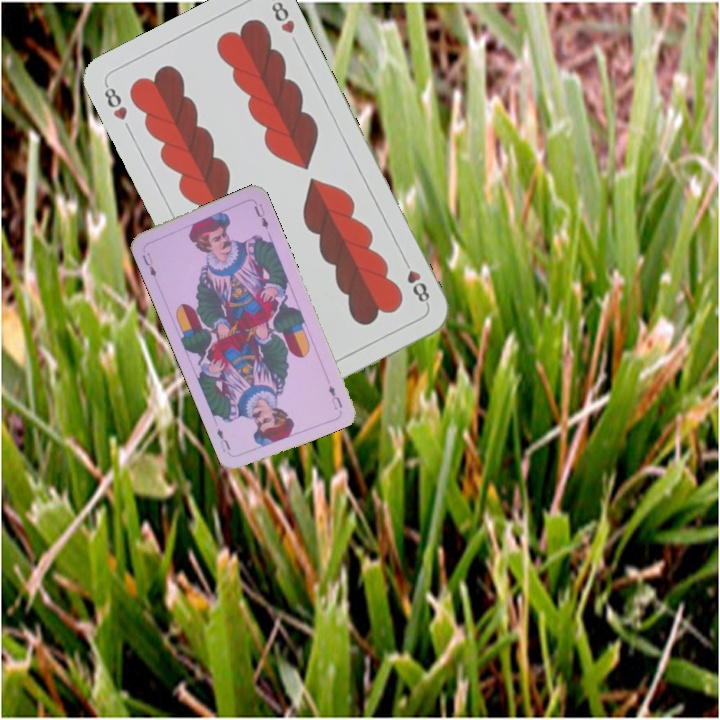EU: (138, 248, 159, 280), (324, 381, 345, 412)
H8: (398, 253, 433, 308), (100, 80, 130, 123)
